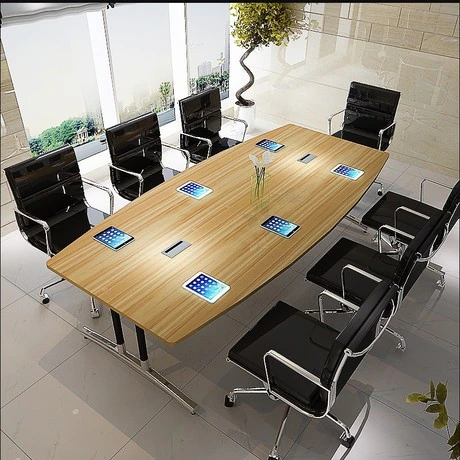conference_table: (46, 122, 390, 415)
